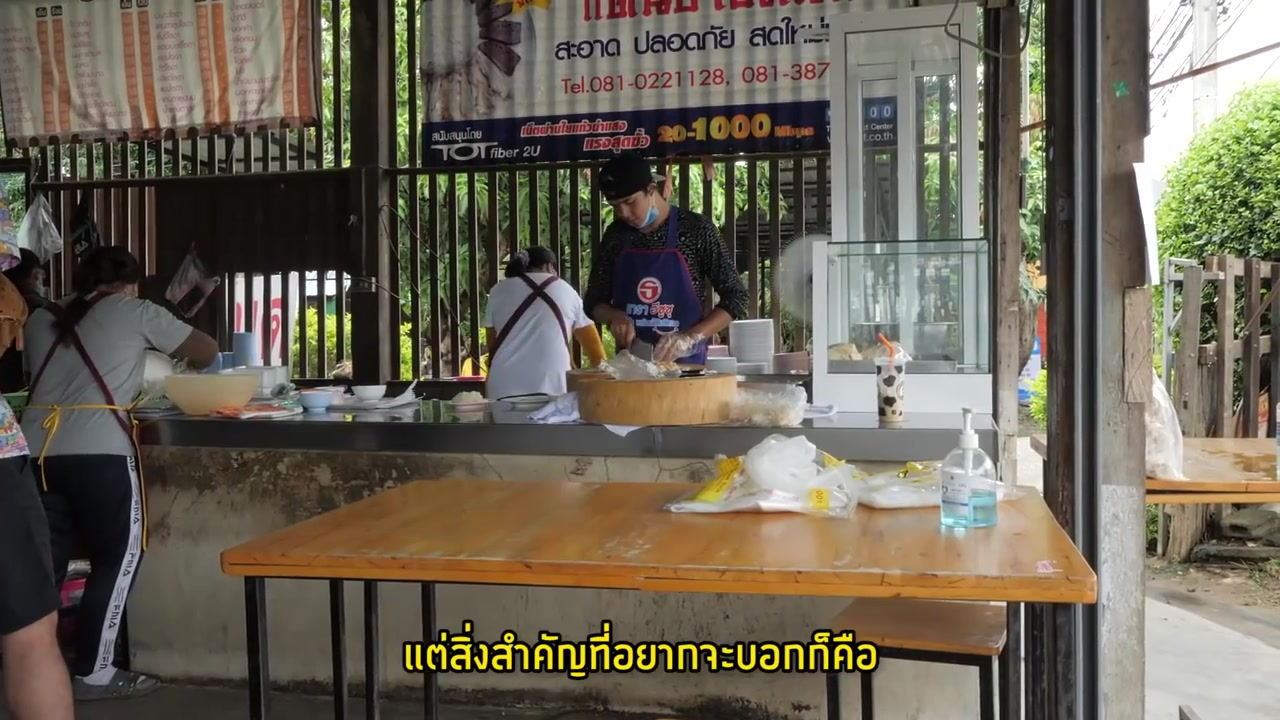text-label: (398, 618, 881, 679)
